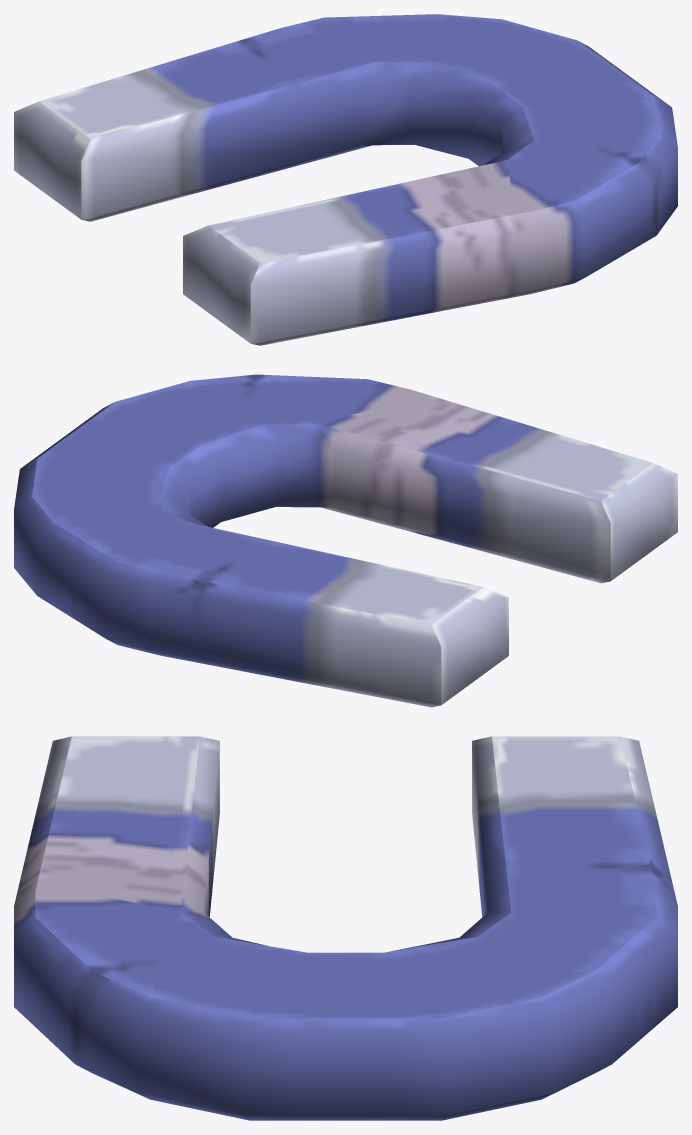
The model's file is magnet.fbx.
3 views of the same model, one above another, from view 1: azimuth 30°, elevation 25°; view 2: azimuth 150°, elevation 25°; view 3: azimuth 270°, elevation 25° (orthographic). The views are drawn at different scales.
Visible parts, largest first — view 1: magnet; view 2: magnet; view 3: magnet.
Boxes of the visible parts, left/top/right/bottom form: magnet: left=14, top=14, right=677, bottom=345; magnet: left=14, top=374, right=677, bottom=707; magnet: left=14, top=736, right=677, bottom=1120.
Bounding box in the file's own units: 37.17 × 5.88 × 34.61.
